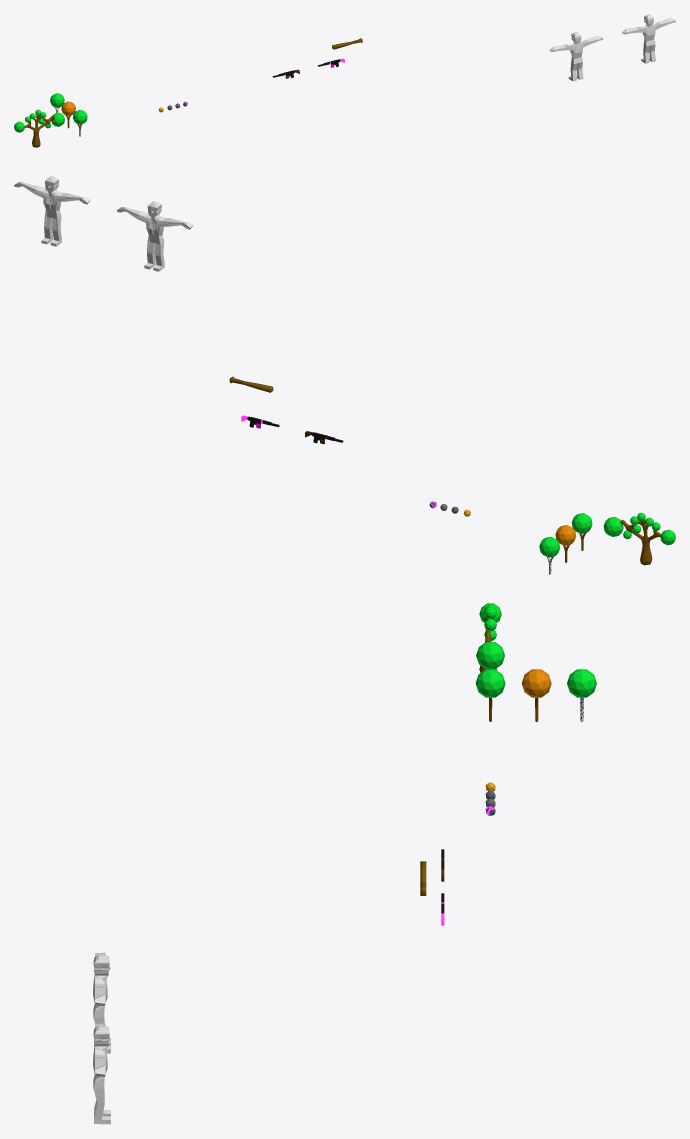
File: ore.fbx
3 renders of one model, top to bottom at view 1: azimuth 30°, elevation 25°; view 2: azimuth 150°, elevation 25°; view 3: azimuth 270°, elevation 25°, orthographic. The views are drawn at different scales.
Visible parts, largest first — view 1: Body, Tree1, Cube.002; view 2: Body, Tree1, Cube.002; view 3: Tree1, Cube.002, Body, Tree2Variant, Tree2Variant2, Tree2.
Boxes of the visible parts, x1,y1,x2,y2 form: Body: [549, 32, 602, 81]; Tree1: [14, 109, 64, 147]; Cube.002: [622, 18, 675, 63]; Body: [117, 201, 192, 271]; Tree1: [603, 512, 675, 565]; Cube.002: [14, 182, 90, 246]; Tree1: [476, 603, 504, 672]; Cube.002: [93, 1023, 110, 1124]; Body: [93, 952, 110, 1053]; Tree2Variant: [521, 669, 551, 721]; Tree2Variant2: [567, 669, 596, 721]; Tree2: [475, 669, 505, 721].
Size of the model in its own units: 19248 by 2535 by 7464.
